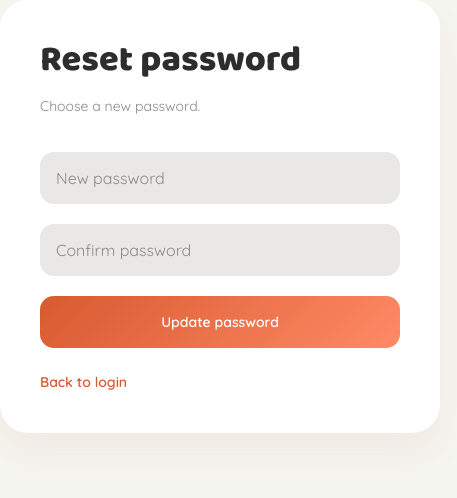
Scenario: ResetPasswordForm › updates the password and redirects back to login
The width and height of the screenshot is (457, 498).
Type "12345678" into the password field with placeholder "New password". click: (220, 178)
box: x1=40 y1=152 x2=400 y2=204
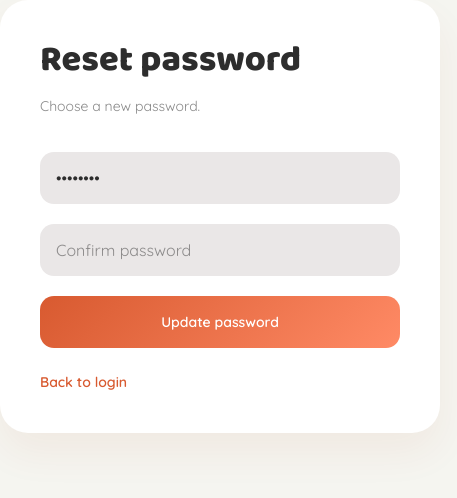
Type "12345678" into the password field with placeholder "Confirm password". click: (220, 250)
box: x1=40 y1=224 x2=400 y2=276
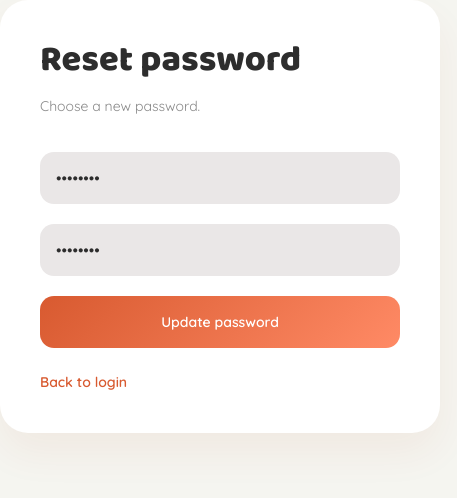
Click the button "Update password". click: click(220, 322)
box: x1=40 y1=296 x2=400 y2=348
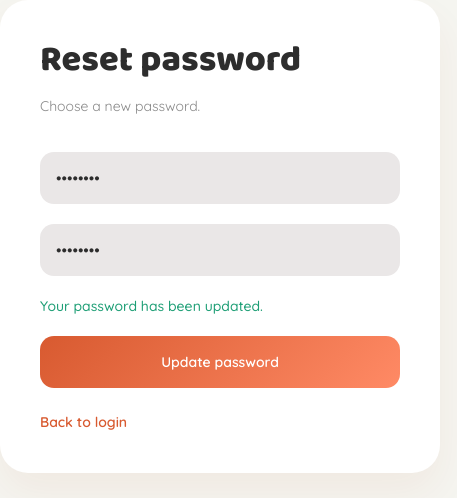
Expected: the text "Your password has been updated." is shown, x1=40 y1=297 x2=263 y2=315
